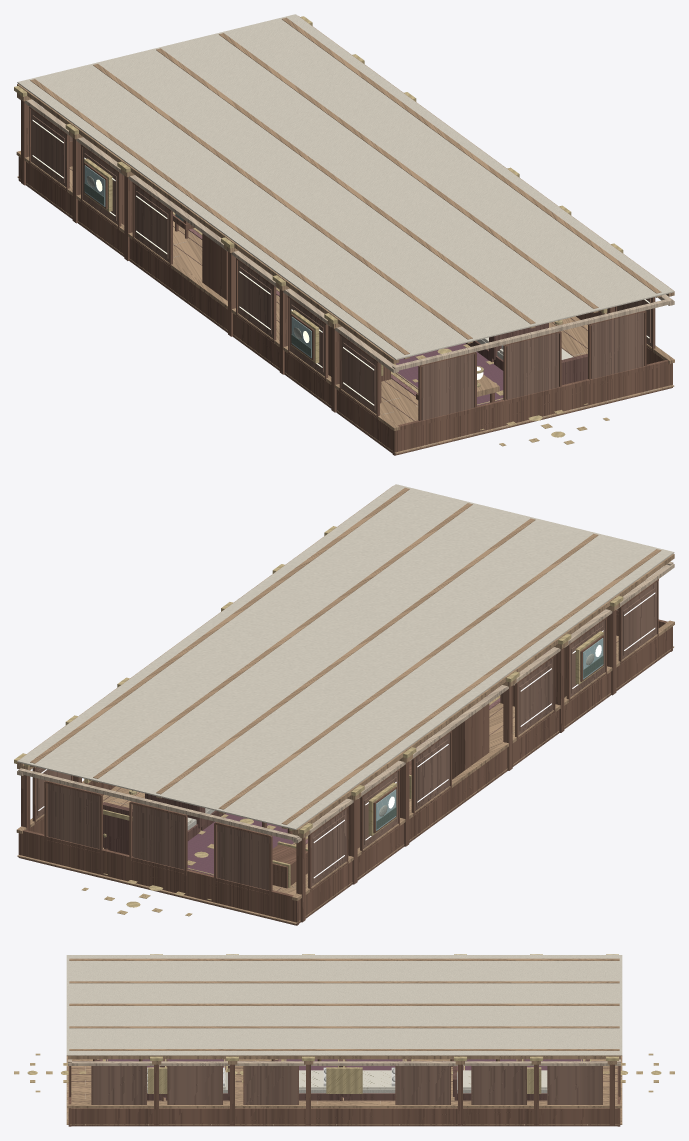
The model's file is suite.gltf.
3 views of the same model, one above another, from view 1: azimuth 30°, elevation 25°; view 2: azimuth 150°, elevation 25°; view 3: azimuth 270°, elevation 25° (orthographic). The views are drawn at different scales.
Parts seen in each view (by area): view 1: plaster, oakdark, oak, walnut, woodlight, gold, mahogany, burgundy, sky; view 2: plaster, oakdark, oak, walnut, woodlight, gold, mahogany, burgundy, sky; view 3: plaster, oak, walnut, oakdark, woodlight, gold, mahogany, ivory, burgundy, linen, rugtrim.
Part boxes in pixels (box(x1,y1,x2,y2)): plaster: box(17, 14, 674, 359); oakdark: box(18, 100, 672, 455); oak: box(16, 16, 674, 454); walnut: box(31, 109, 651, 421); woodlight: box(17, 97, 674, 446); gold: box(14, 16, 623, 437); mahogany: box(465, 323, 587, 384); burgundy: box(148, 184, 503, 405); sky: box(84, 165, 311, 358); plaster: box(17, 484, 674, 829); oakdark: box(18, 579, 672, 925); oak: box(16, 486, 674, 924); walnut: box(36, 582, 656, 890); woodlight: box(17, 561, 674, 887); gold: box(14, 526, 623, 907); mahogany: box(103, 793, 225, 855); burgundy: box(187, 649, 550, 875); sky: box(376, 638, 603, 830); plaster: box(66, 955, 622, 1055); oak: box(66, 958, 622, 1124); walnut: box(71, 1061, 618, 1104); oakdark: box(68, 1059, 620, 1126); woodlight: box(67, 1059, 620, 1125); gold: box(27, 954, 661, 1093); mahogany: box(95, 1059, 589, 1100); ivory: box(147, 1070, 547, 1089); burgundy: box(106, 1059, 582, 1070); linen: box(147, 1072, 547, 1093); rugtrim: box(14, 1053, 674, 1092).
Bounding box in the file's own units: 9.28 × 2.99 × 24.8.
21 materials, 21 textured.
